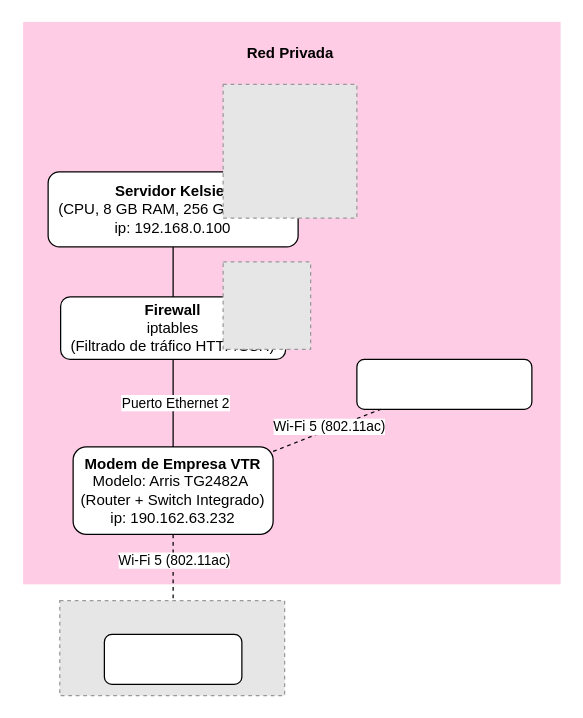
Image size: 583x718. Some labels were removed from this diagram. Grey dashed boxes stand in for pictures. The shapes that lost their labels are listed below. From the top down, each one's box as (x1, y1, x2, y2) in pixels, then its label:
(356, 358, 532, 409): Otros equipos en la red
(103, 633, 242, 684): Red Pública
